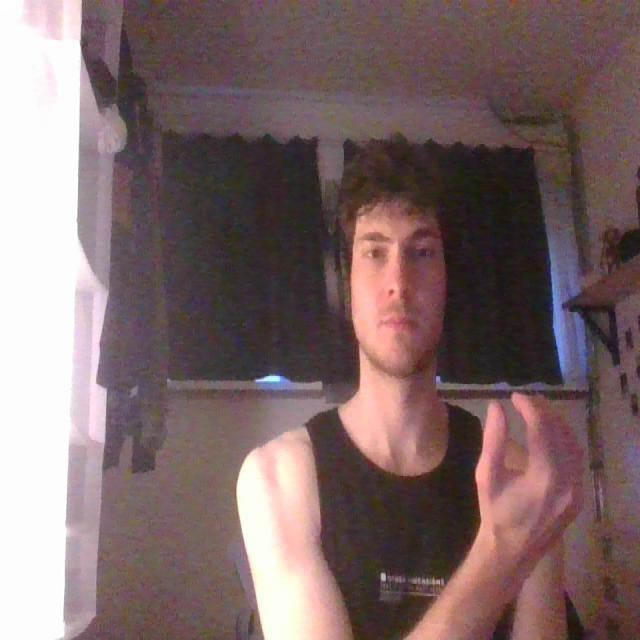forward: (470, 377, 587, 579)
